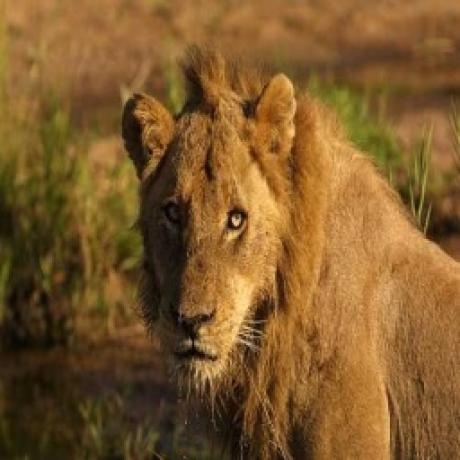Lion: (109, 57, 460, 460)
